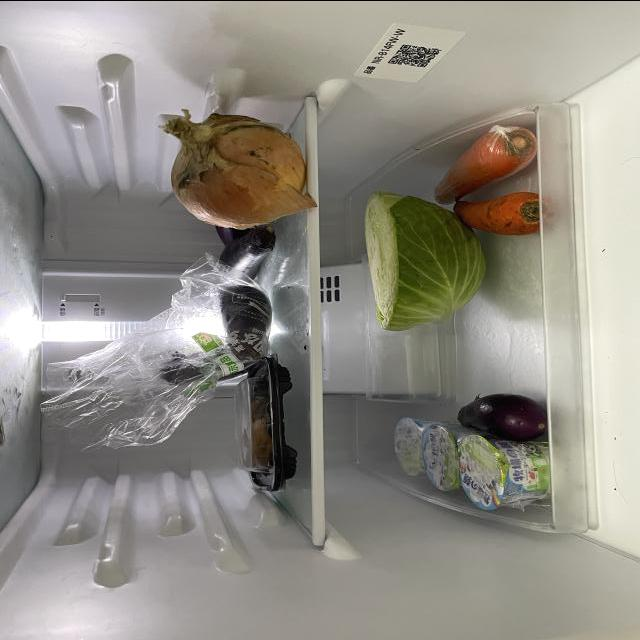cabbage: (363, 190, 499, 330)
carrot: (432, 122, 540, 206), (444, 195, 557, 238)
eggplant: (158, 341, 262, 388), (457, 395, 548, 440), (219, 286, 272, 356), (219, 230, 272, 288), (216, 224, 238, 246)
onion: (163, 114, 317, 229)
